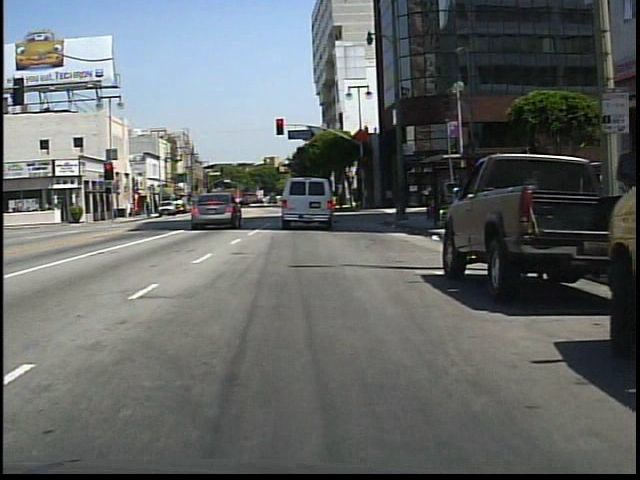person: (316, 182, 336, 223), (217, 193, 232, 218)
